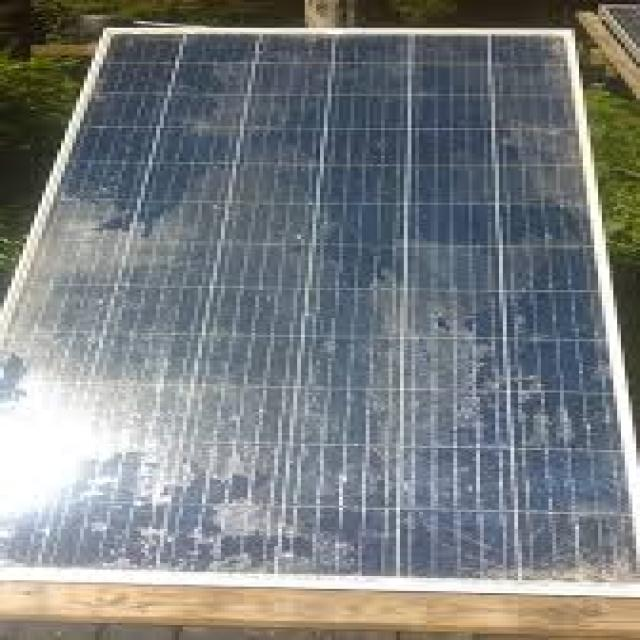faulty: (27, 17, 626, 610)
